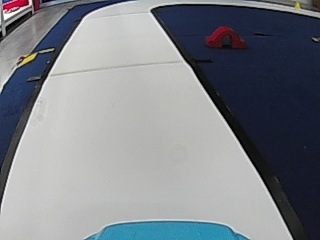bridge: (204, 25, 246, 50)
